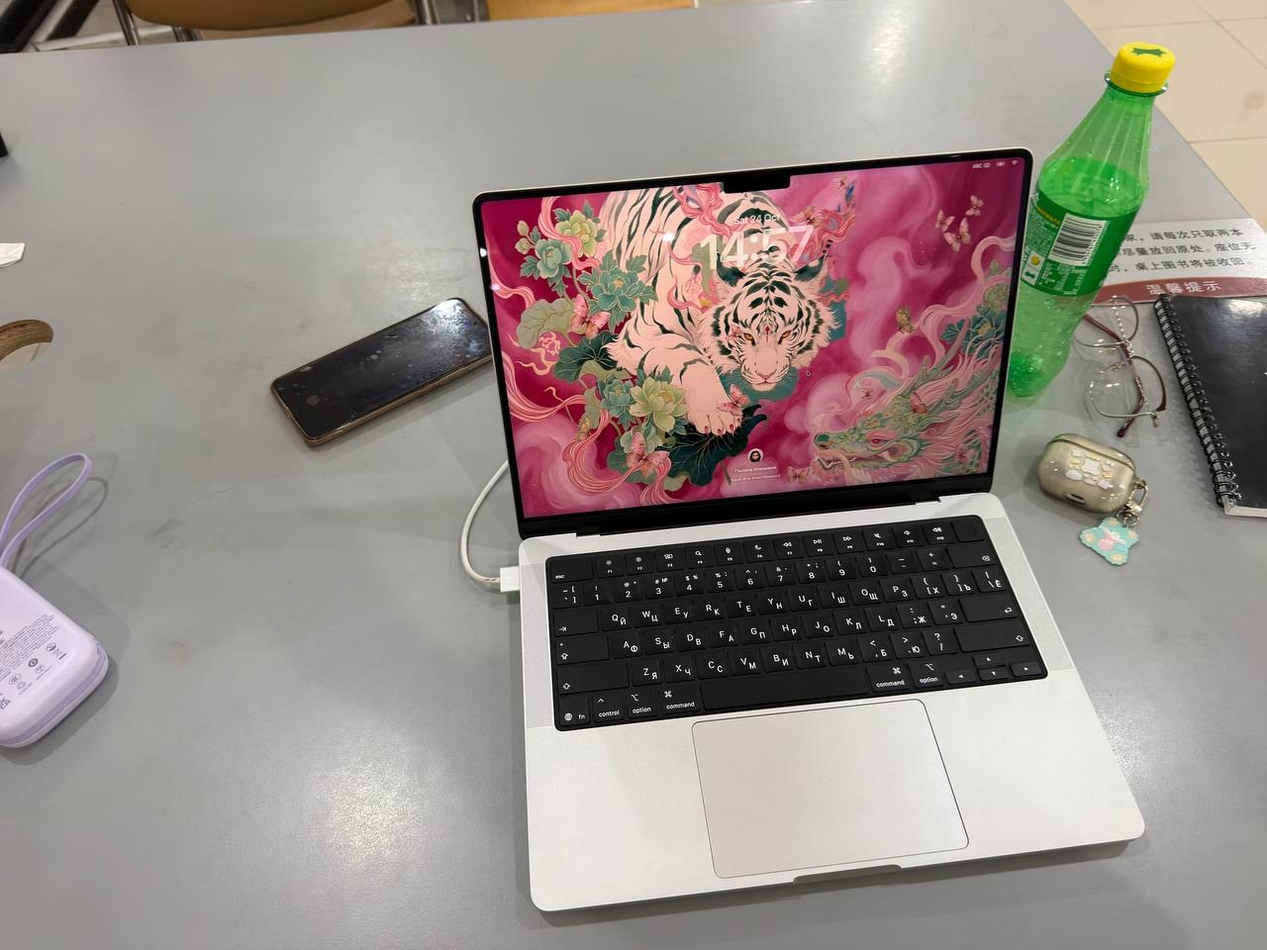cell phone: (273, 294, 496, 448)
laptop: (473, 146, 1147, 913)
